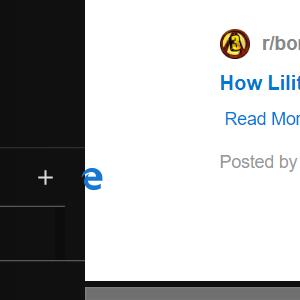edge: (82, 168, 103, 190)
